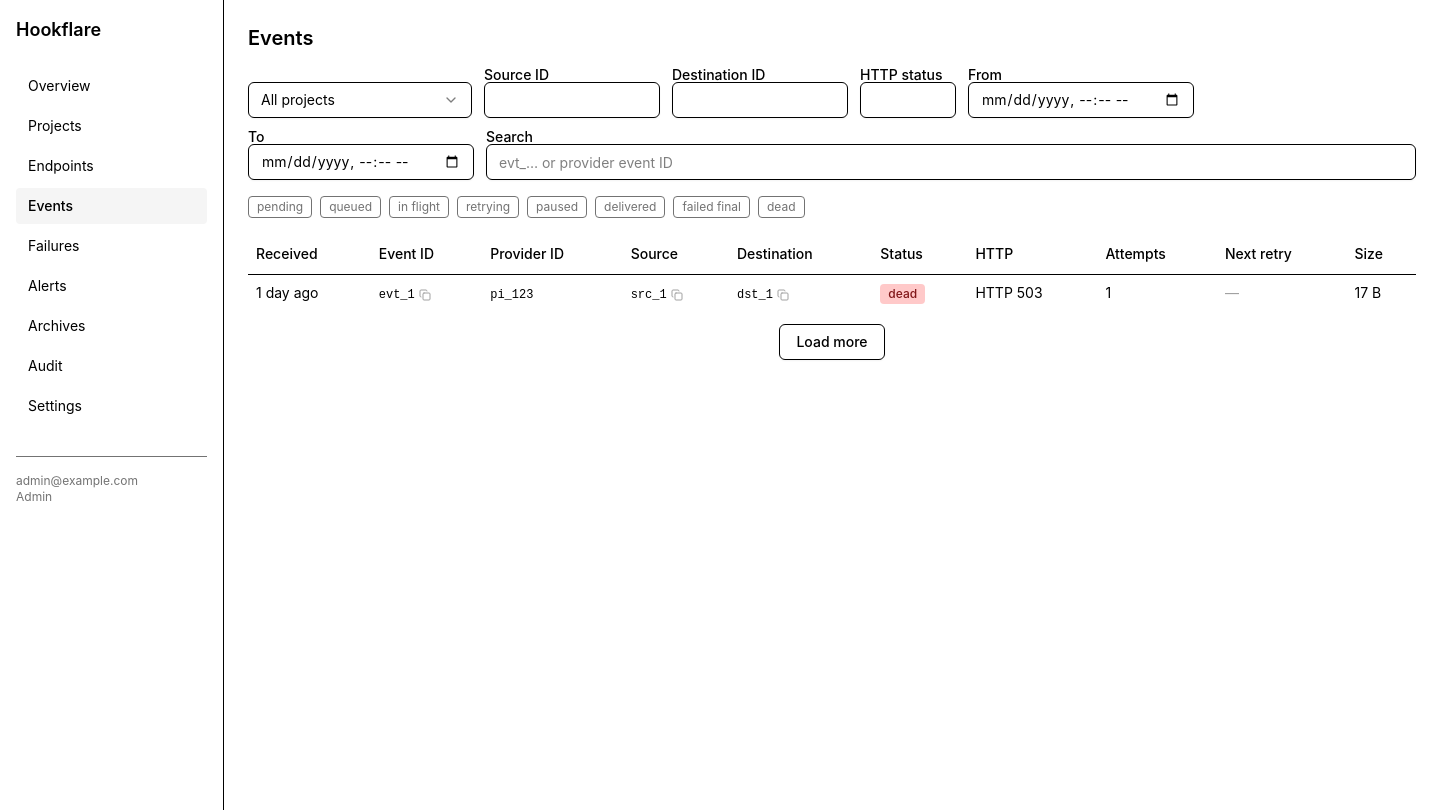
it: Events › shows Load more when there is a next cursor and appends the next page
Click the button "Load more" at [832, 342], box [779,324,884,360]
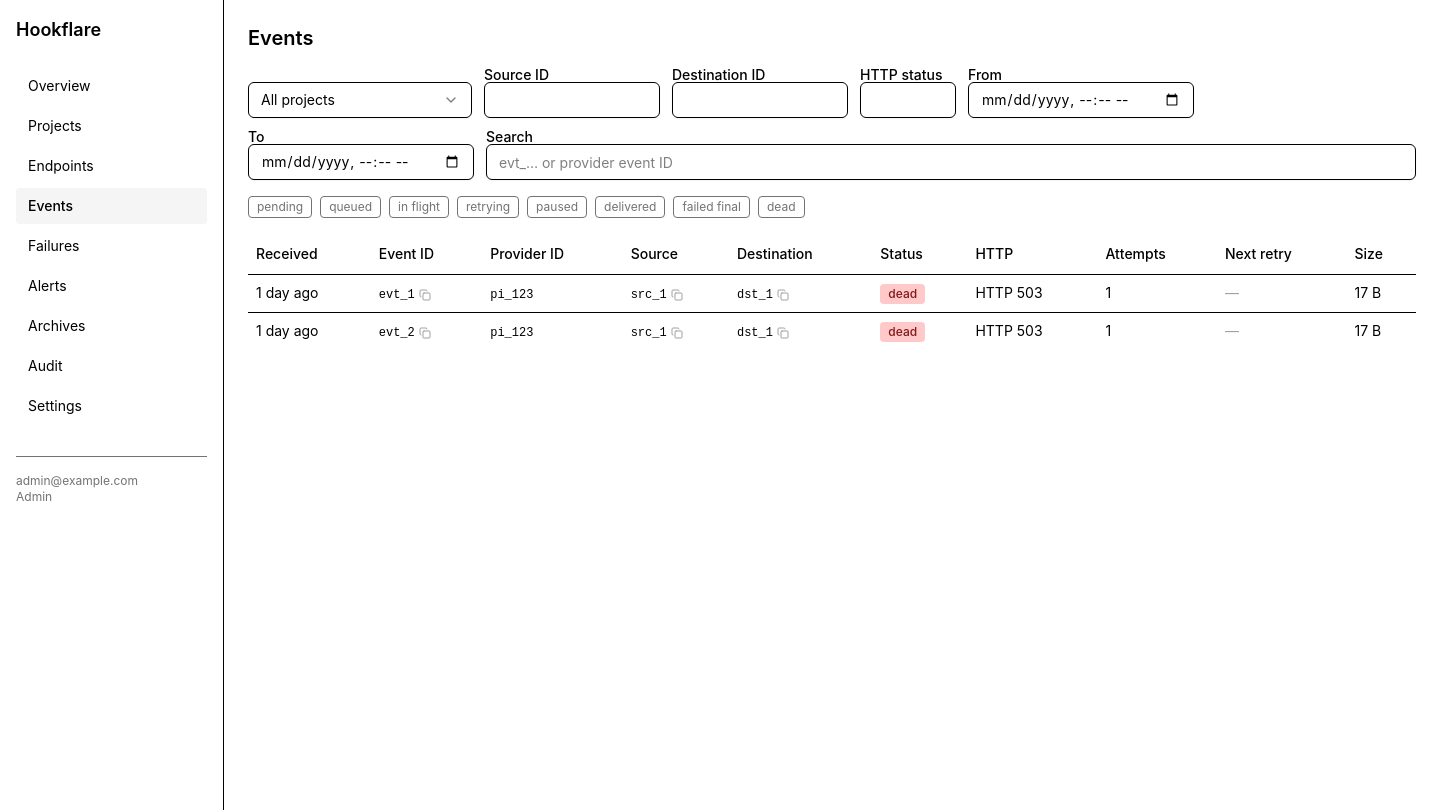
Expected: the text "evt_1" is shown, [379,287,431,303]
Now the text "evt_2" is shown, box [379,325,431,341]
Now the button "Load more" is gone
